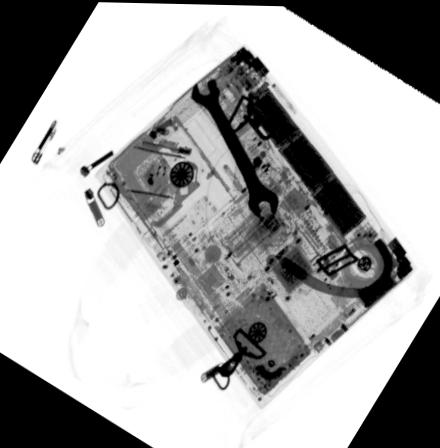Wrench: (191, 76, 279, 220)
